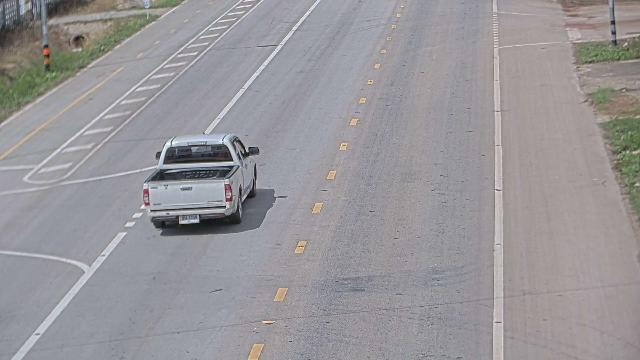pickup-truck: (141, 132, 260, 229)
